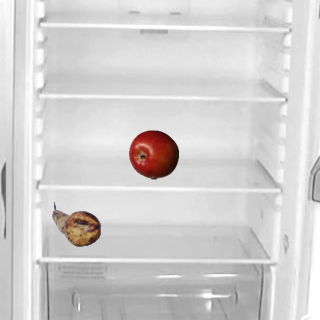Apple Braeburn: (128, 129, 178, 179)
Pear Abate: (51, 199, 101, 249)
